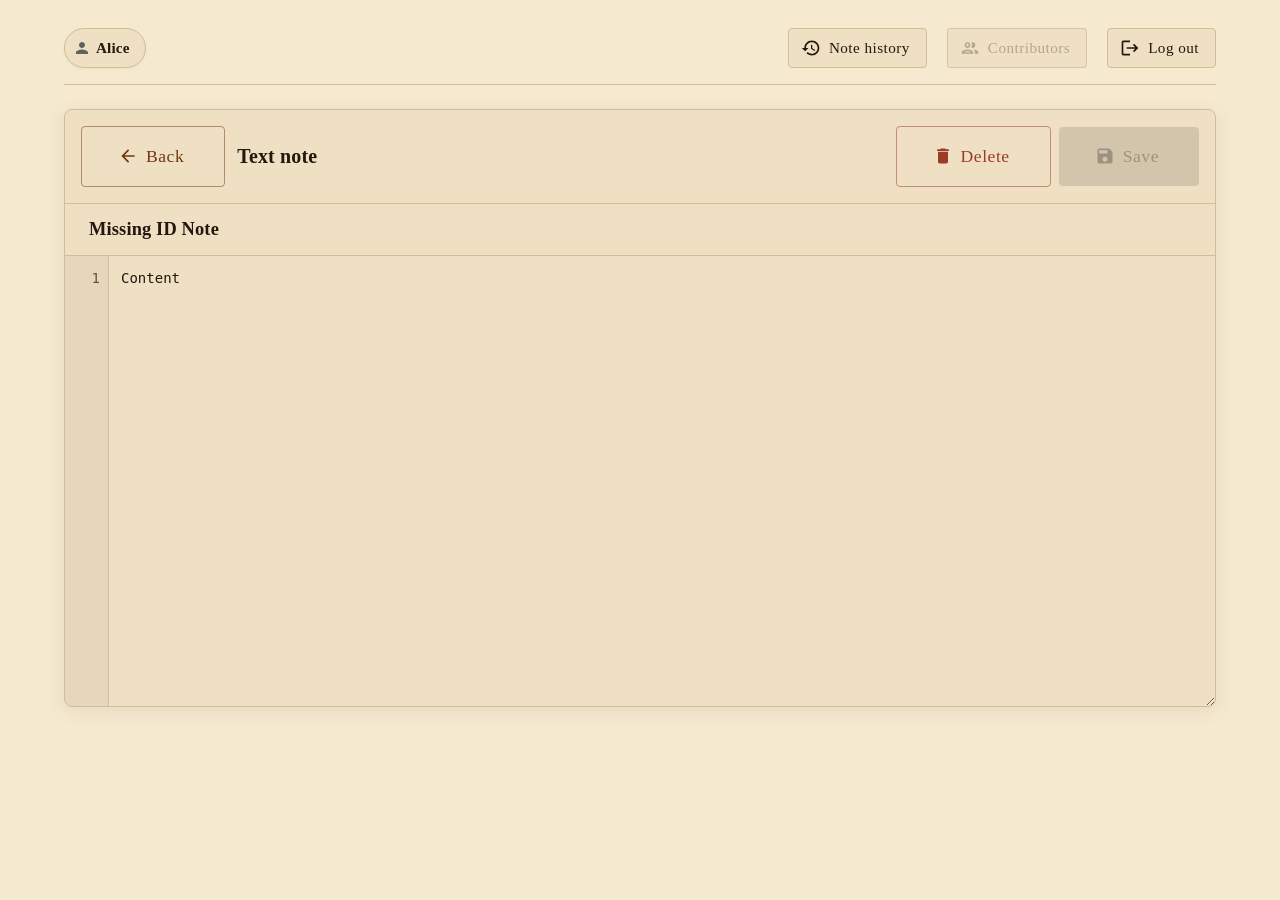
NoteEditor Client Component › Edit mode workflow › displays error if noteId or initialVersion is missing in edit mode
Note: Force dirty so save button is enabled
Replace the text in the text box named "note content" with "New content": (662, 481) top-left (109, 256), bottom-right (1215, 706)
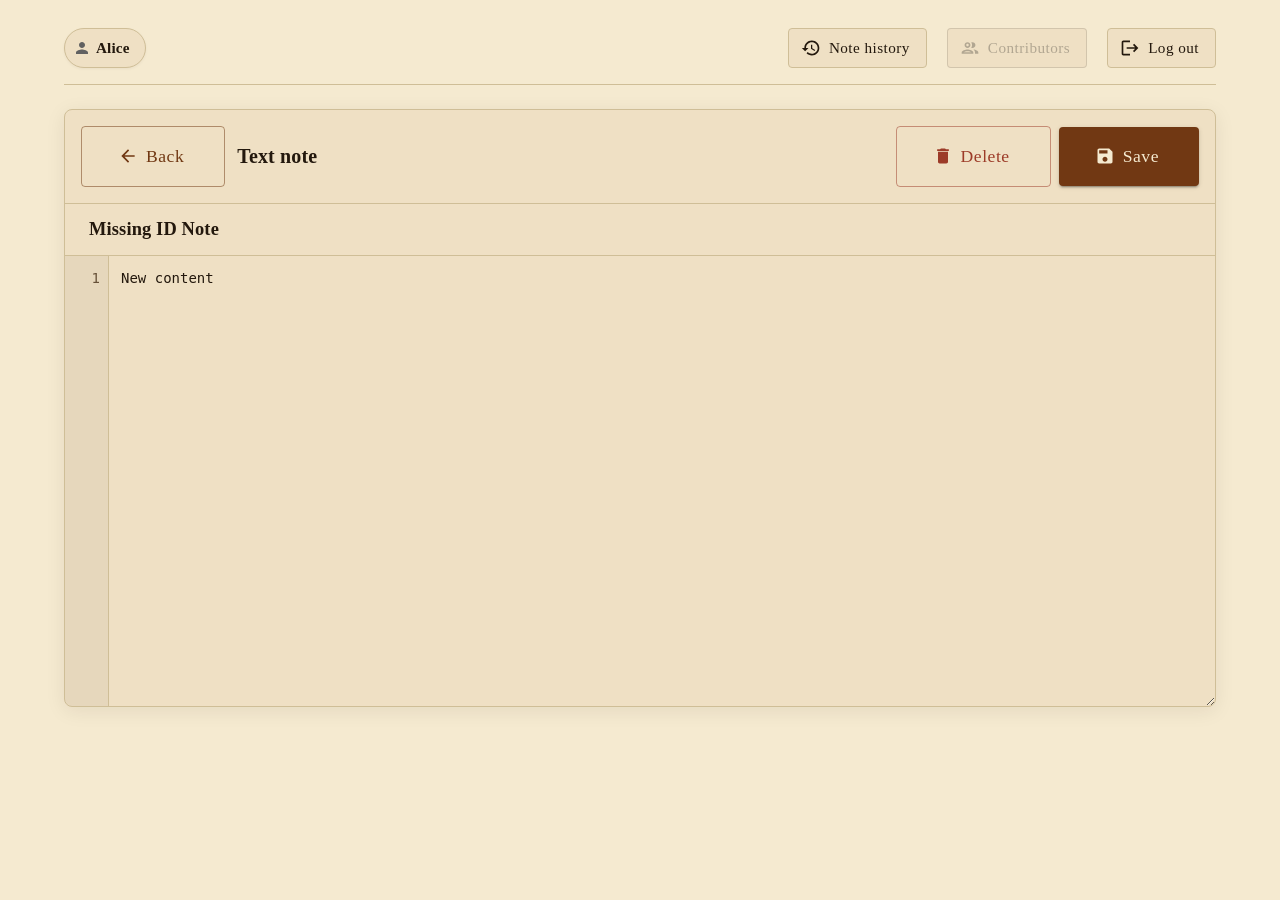
Click the button "Save": (1129, 156) top-left (1059, 127), bottom-right (1199, 186)
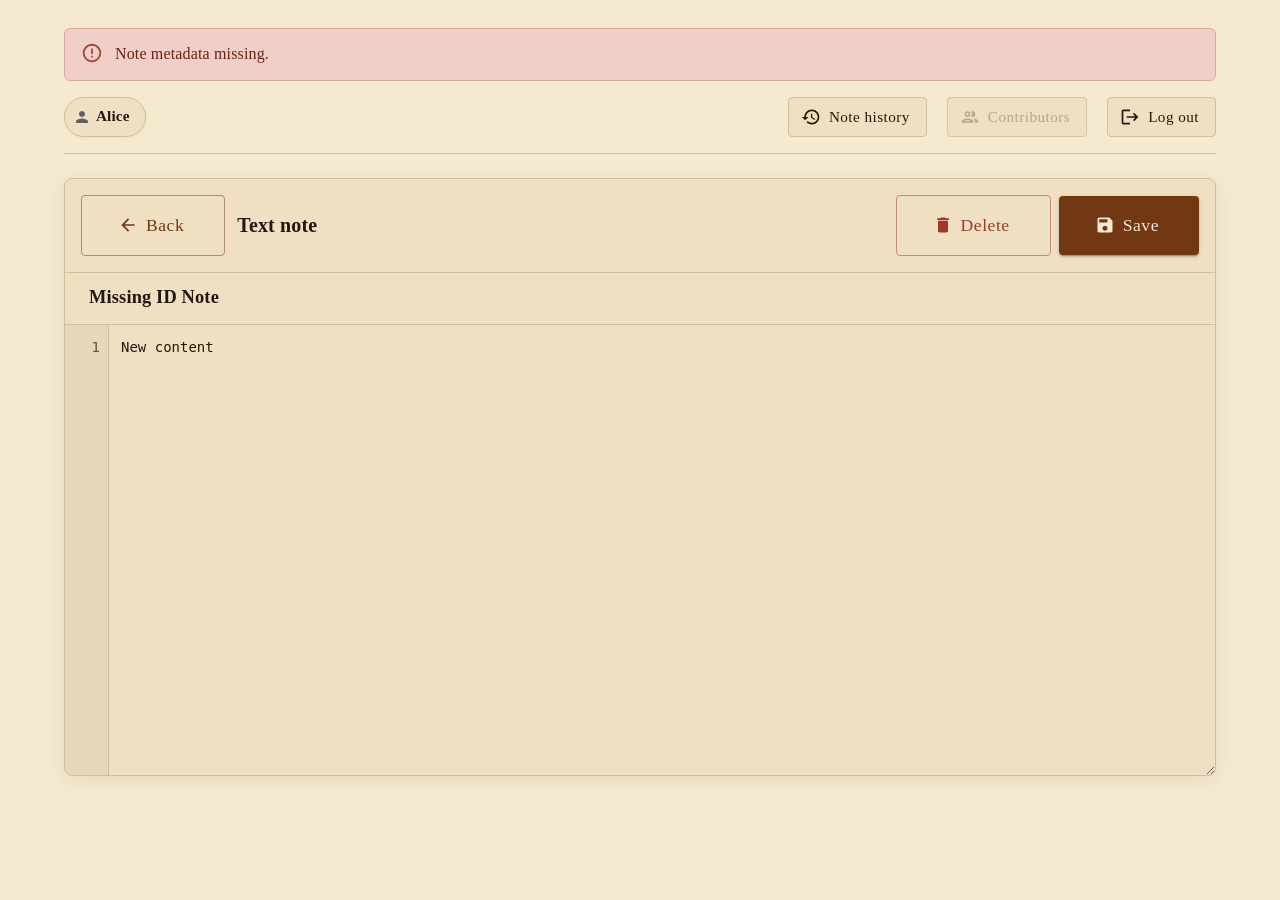
Check: the message reads "Note metadata missing.", box top-left (115, 45), bottom-right (269, 62)
